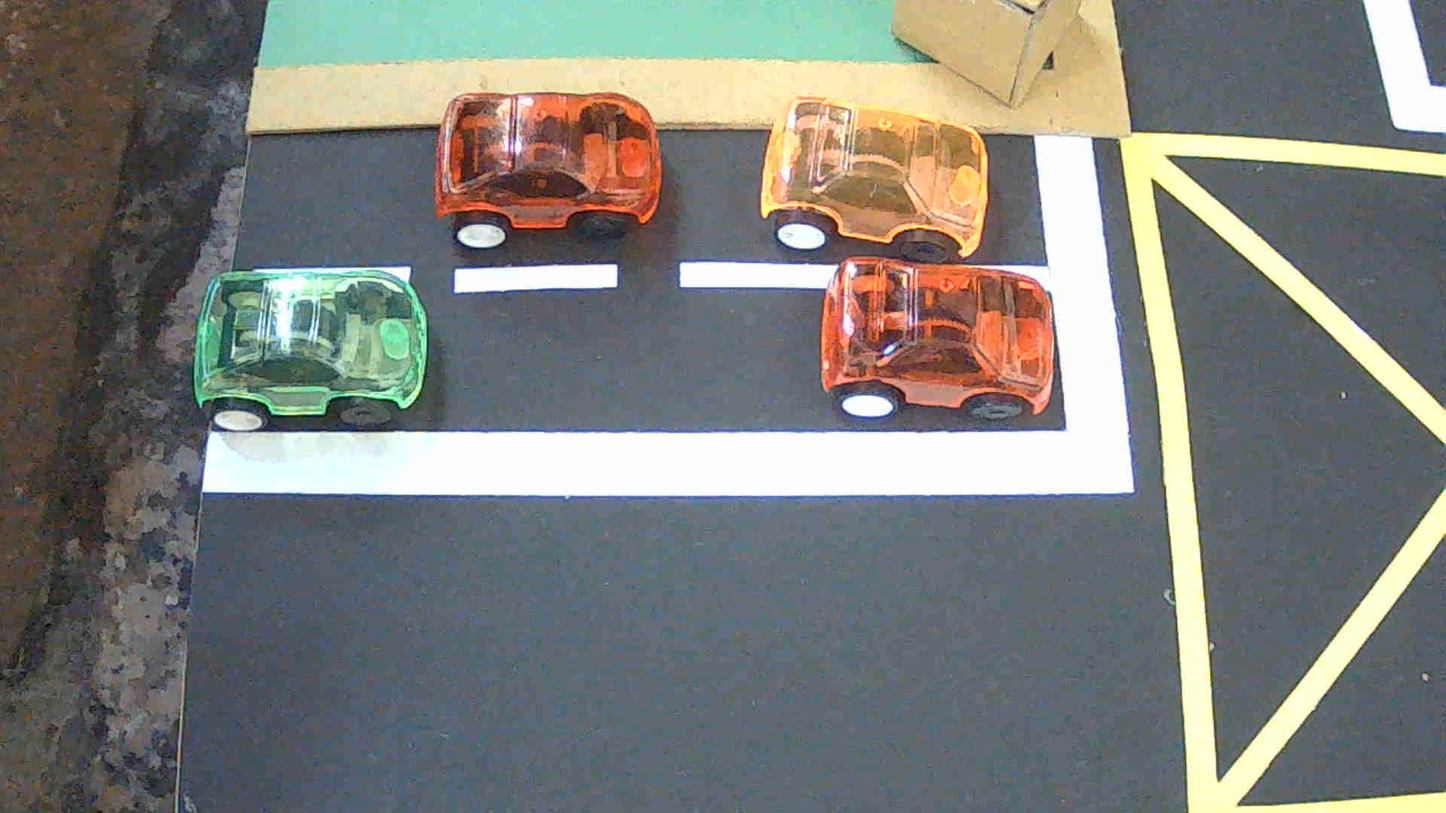Mobil hijau: (192, 269, 429, 431)
Mobil merah: (820, 257, 1055, 420), (434, 92, 662, 249)
Mobil orange: (759, 97, 987, 262)
